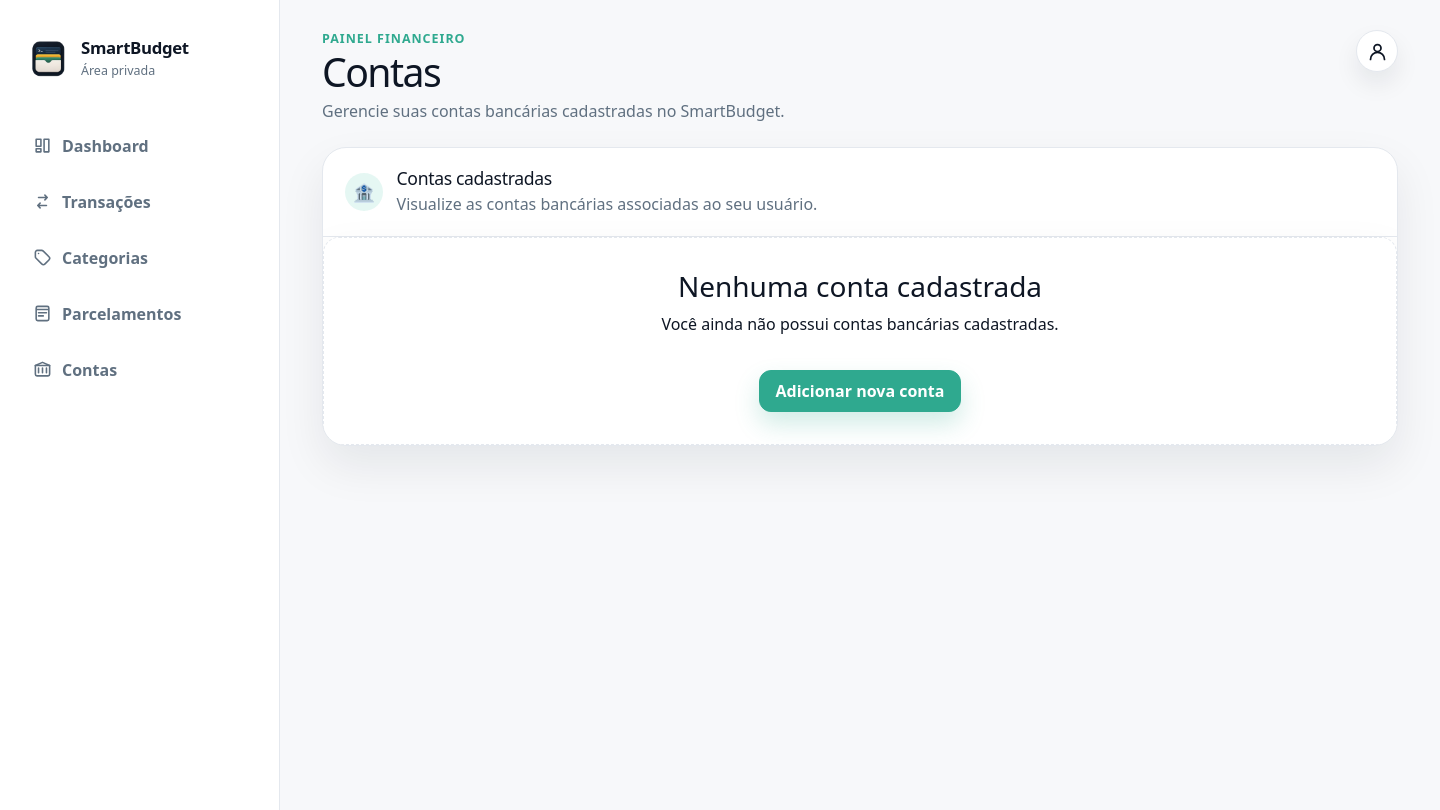
Scenario: Tela de Cadastro de Nova Conta Bancária (Issue #136) › deve renderizar os campos do formulário com os valores padrões e o botão de submissão
Click the button "Adicionar nova conta".
click(860, 391)  # box [758,370,961,412]
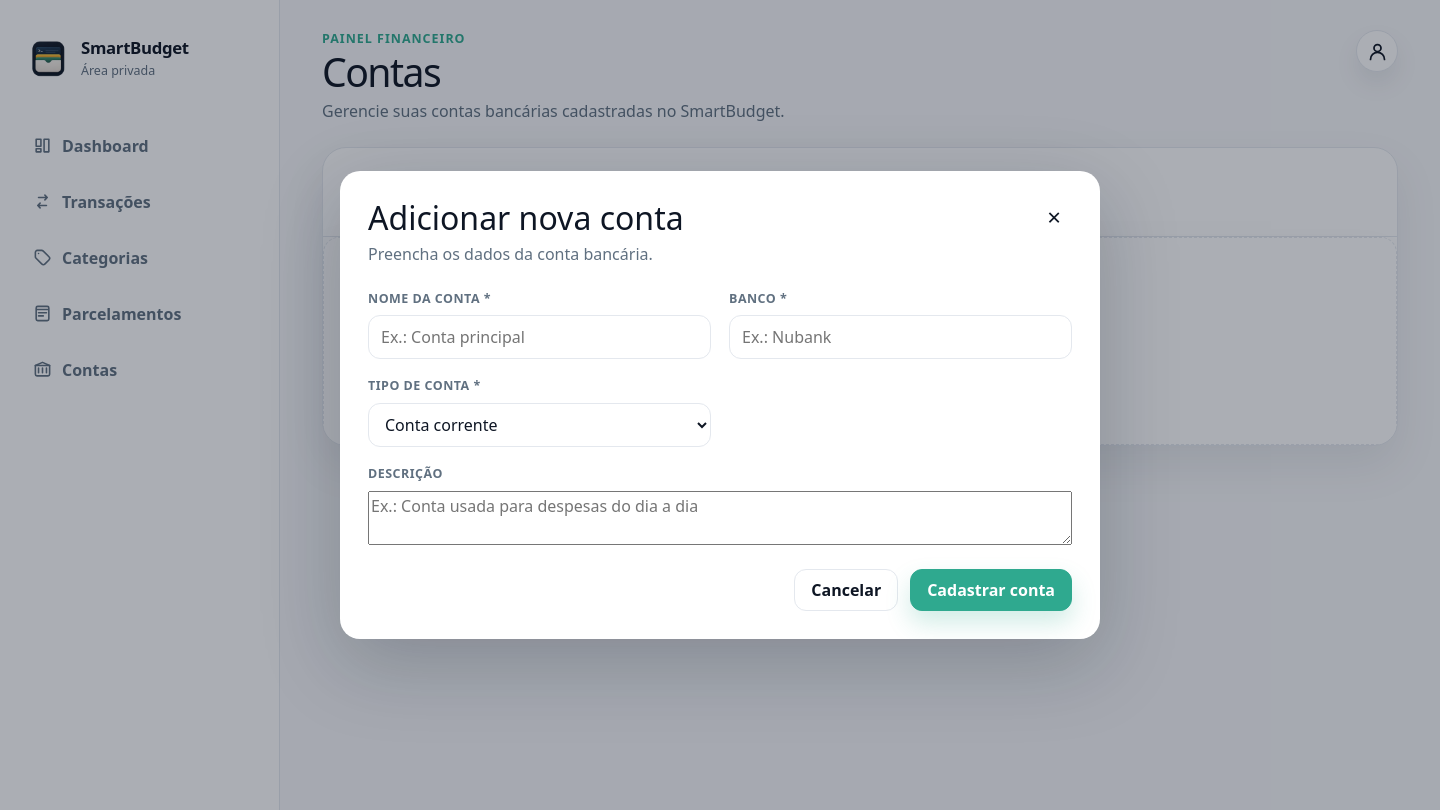
Now the field labelled "Nome da conta *" is shown, box [368,315,711,359]
Now the field labelled "Banco *" is shown, box [729,315,1072,359]
Now the text box labelled "Descrição" is shown, box [368,491,1072,545]
